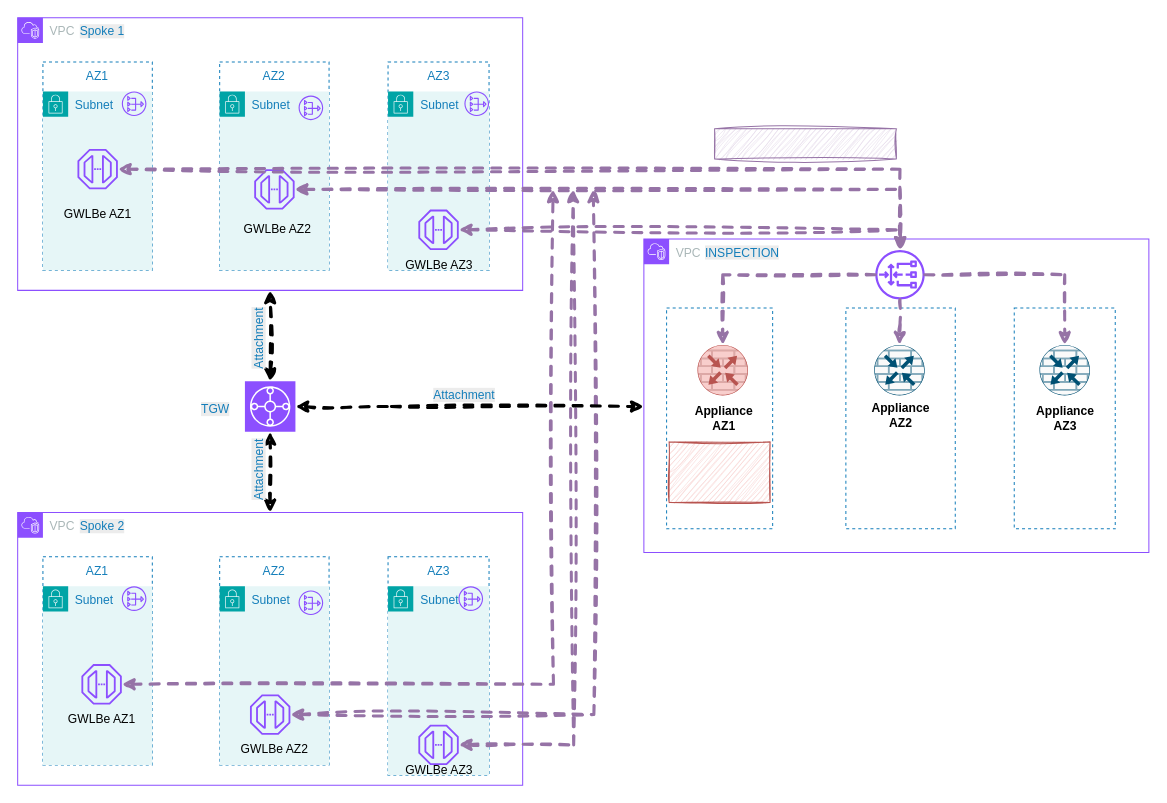
Some shapes in this 1167 by 803 pixel diagram are drawn without their labels. Here are the shapes that lost their labels. From the top down, the centre of each, then its label:
pixel 805 143: GENEVE 6081 / Private Link
pixel 719 471: Unhealthy Removed by Health-check
